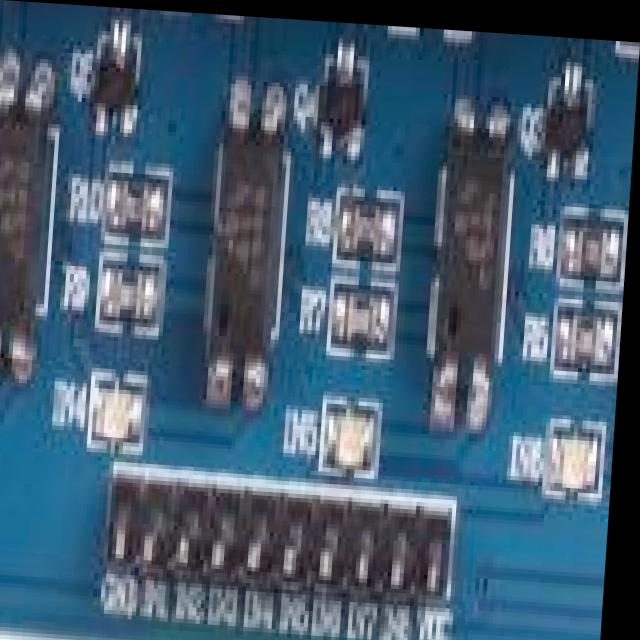IC: (433, 116, 515, 385), (214, 100, 293, 366), (0, 76, 60, 363)
LED: (328, 394, 384, 475), (90, 370, 155, 435), (552, 426, 607, 495)
connector: (108, 447, 461, 639)
diode: (164, 9, 236, 20), (396, 21, 472, 29), (619, 32, 640, 54)
resistor: (567, 186, 628, 281), (563, 286, 619, 363), (343, 199, 397, 271), (343, 267, 389, 351), (108, 246, 159, 319), (120, 179, 167, 241)
transistor: (312, 29, 371, 165), (540, 53, 599, 181), (89, 21, 147, 142)
